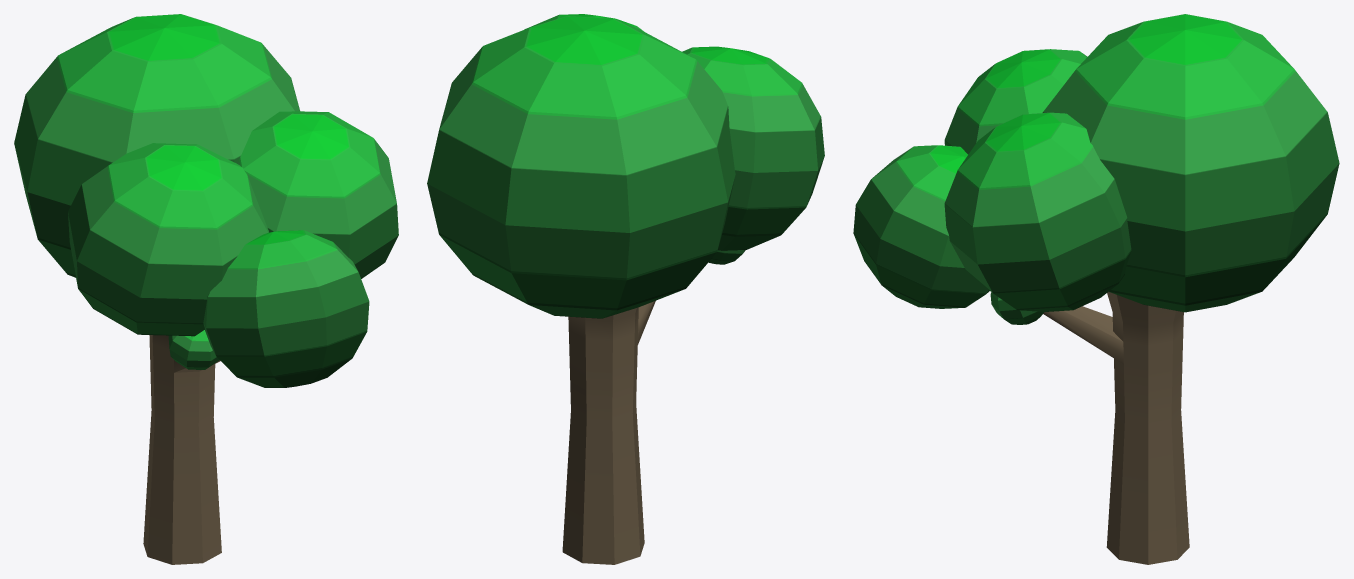
File: tree-2.fbx
3 views of the same model, side by side, from view 1: azimuth 30°, elevation 25°; view 2: azimuth 150°, elevation 25°; view 3: azimuth 270°, elevation 25° (orthographic). The views are drawn at different scales.
Visible parts, largest first — view 1: polySurface7, pCylinder4; view 2: polySurface7, pCylinder4; view 3: polySurface7, pCylinder4.
Part boxes in pixels (left/top/right/bottom): polySurface7: left=14, top=14, right=398, bottom=387; pCylinder4: left=143, top=335, right=221, bottom=564; polySurface7: left=427, top=14, right=824, bottom=318; pCylinder4: left=562, top=300, right=655, bottom=564; polySurface7: left=853, top=14, right=1339, bottom=324; pCylinder4: left=1043, top=291, right=1189, bottom=564.
Size of the model in its own units: 11.26 by 17.36 by 14.78.
2 materials, 1 textured.
